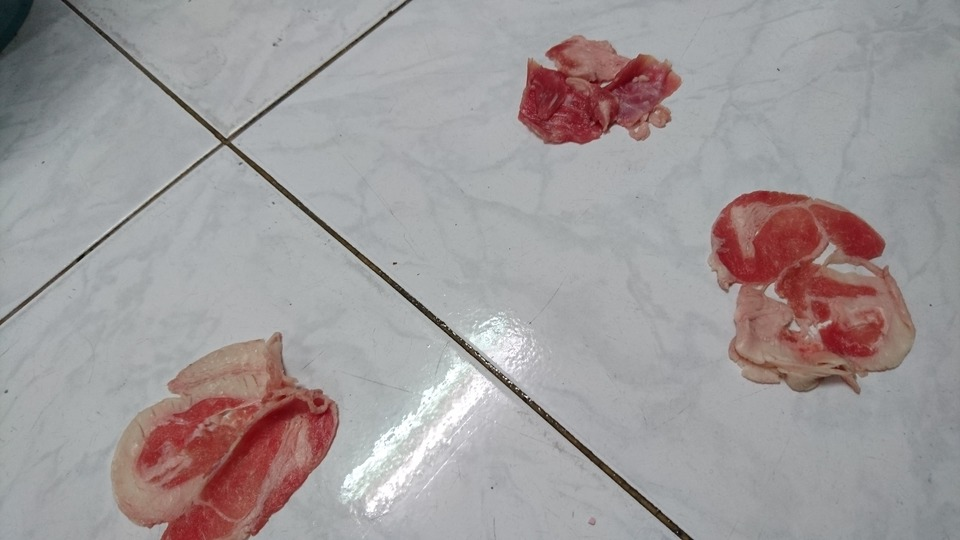restructured meat: (102, 324, 338, 540), (710, 182, 927, 398), (516, 36, 682, 153)
